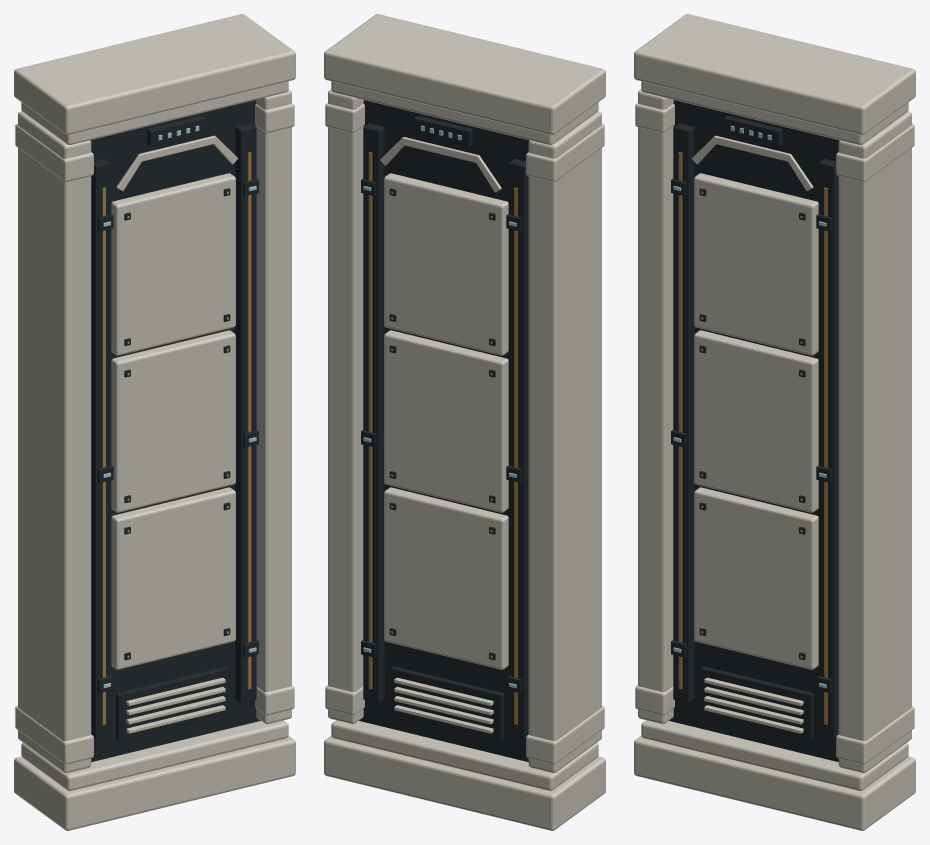
The model's file is SM_Aurelion_KIT_RefugePanel_1m.fbx.
The picture shows the model from 3 angles, left to right: view 1: azimuth 30°, elevation 25°; view 2: azimuth 150°, elevation 25°; view 3: azimuth 330°, elevation 25°; orthographic projection.
Visible parts, largest first — view 1: SM_Aurelion_KIT_RefugePanel_1m; view 2: SM_Aurelion_KIT_RefugePanel_1m; view 3: SM_Aurelion_KIT_RefugePanel_1m.
Boxes of the visible parts, x1,y1,x2,y2 form: SM_Aurelion_KIT_RefugePanel_1m: (14, 14, 295, 830); SM_Aurelion_KIT_RefugePanel_1m: (324, 14, 605, 830); SM_Aurelion_KIT_RefugePanel_1m: (634, 14, 915, 830).
Size of what is drawn, in the model's own units: 100 by 40 by 300.
